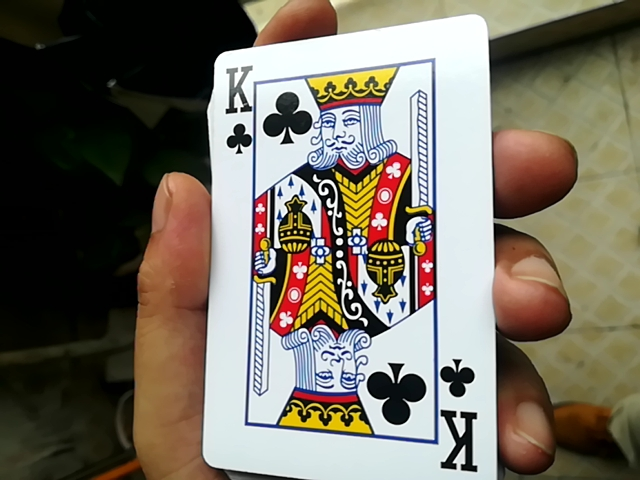mh k: (198, 14, 491, 471)
